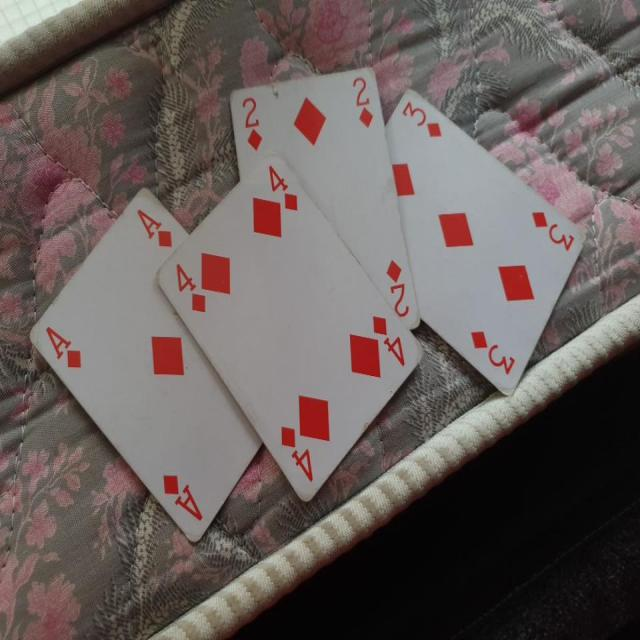2 Diamonds: (225, 62, 422, 327)
3 Diamonds: (385, 84, 584, 409)
4 Diamonds: (152, 148, 429, 508)
A Diamonds: (28, 180, 268, 540)
